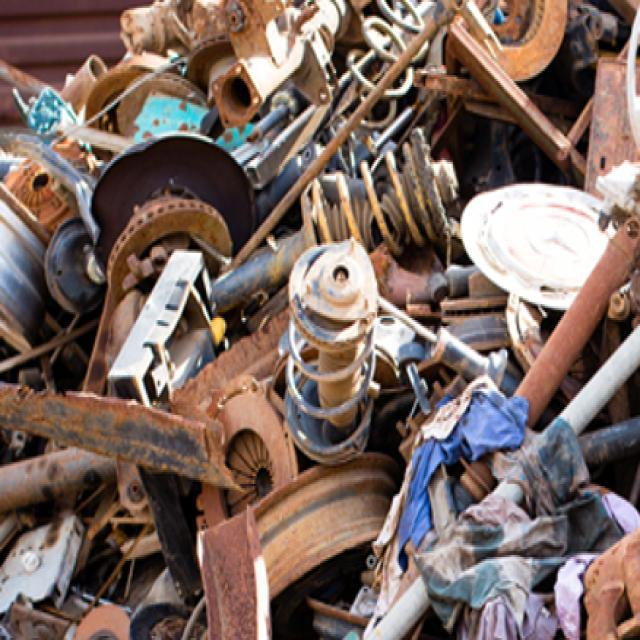shock absorber: (212, 126, 460, 314), (285, 240, 378, 465)
